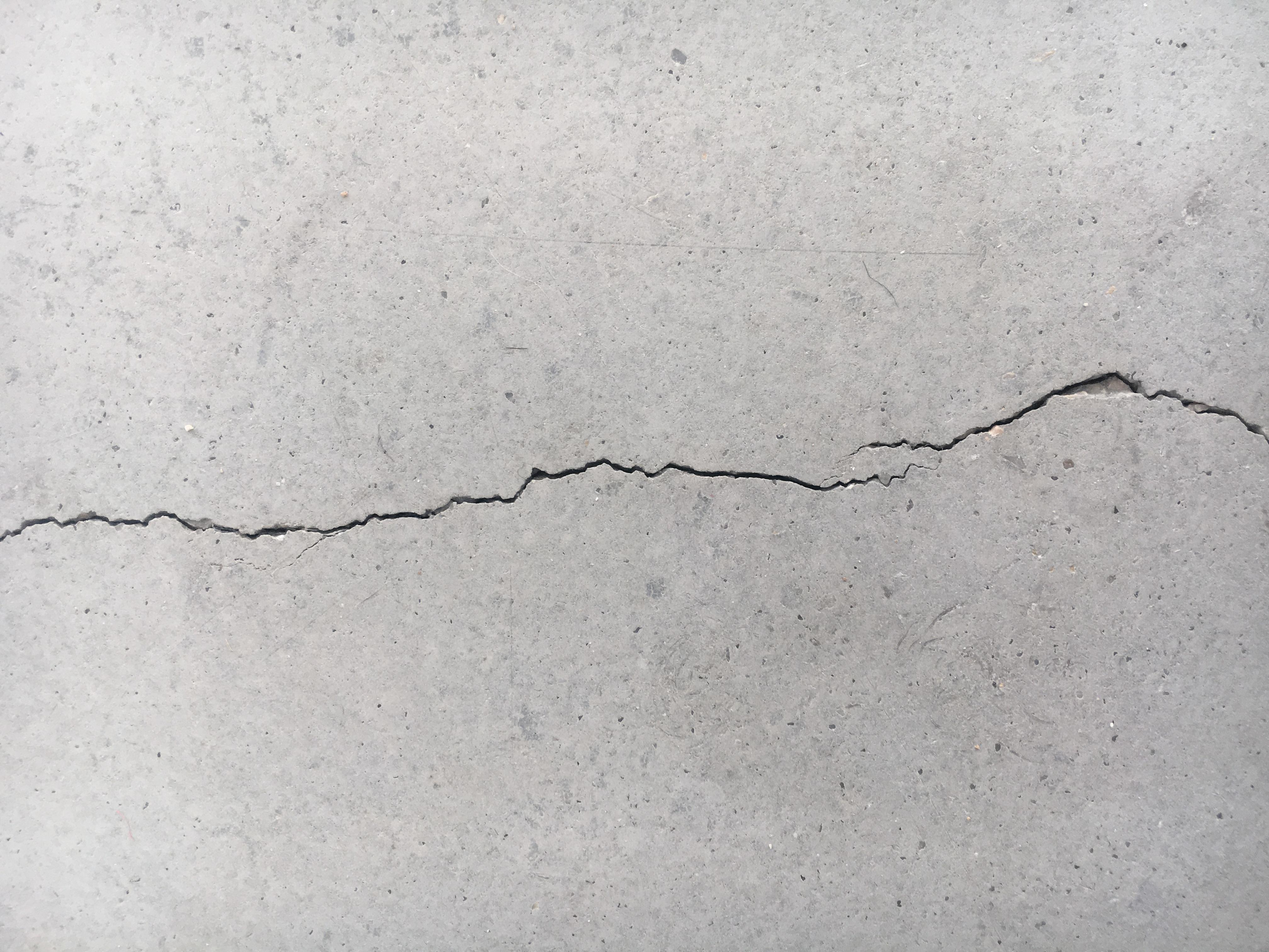Horizontal Settlement Crack: (3, 368, 1266, 552)
